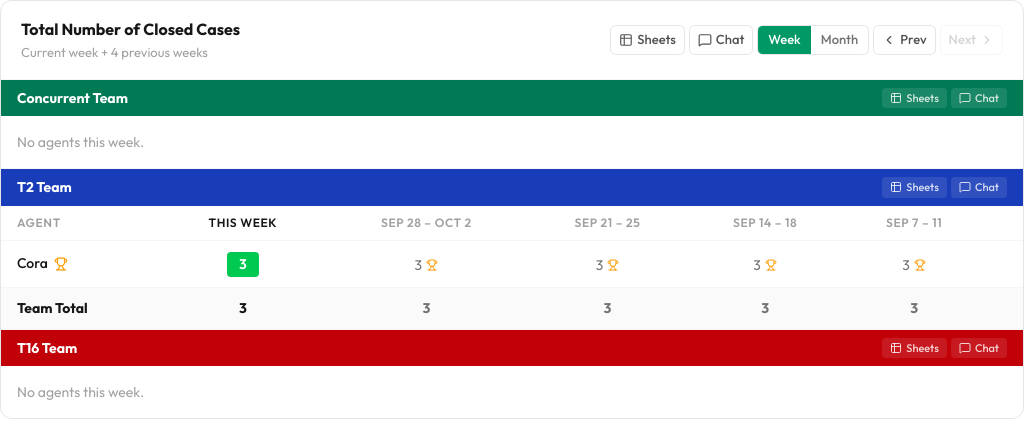
Scoreboard — 5-period comparison (week or month), with a Team Total row › switches to Month mode: fetches 5 monthly from/to ranges instead
Expected: the text "Cora" is shown, [17,253,48,274]
Click the button "Month". click: (839, 40)
box: [811,26,868,54]
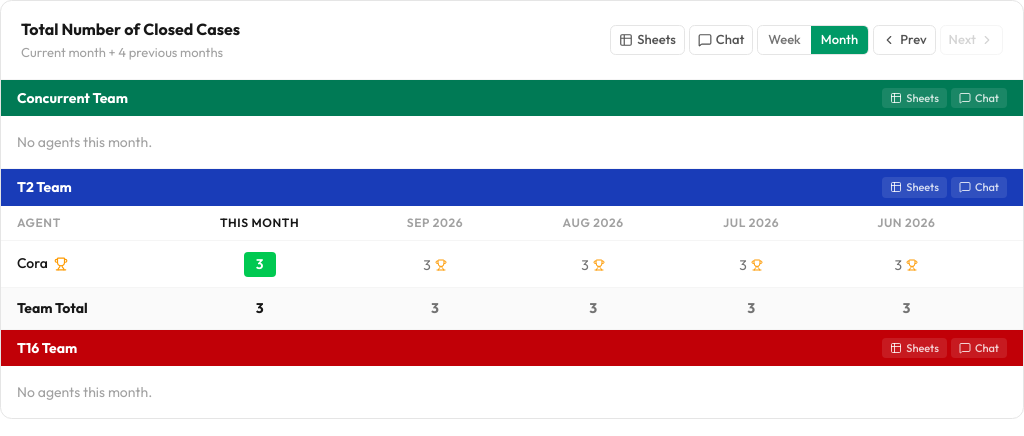
Now the column heading "This month" is shown, box [161,206,358,240]
